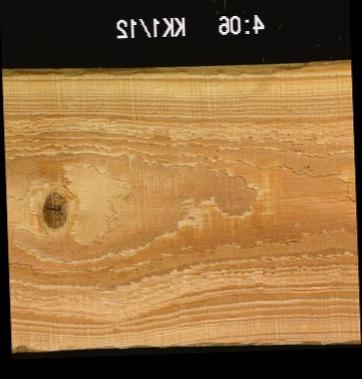sound_knot: (38, 188, 69, 229)
wave: (1, 61, 350, 74)
